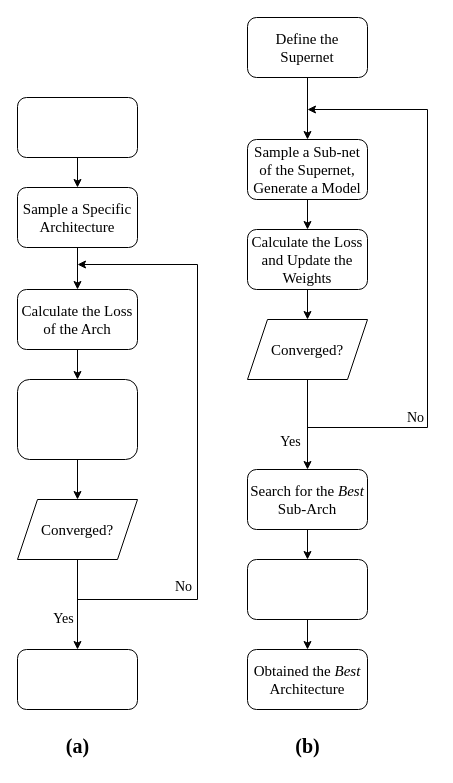
Image size: 453x783. Some labels were removed from this diagram. The box of each missing label's shape, as (x1, y1, x2, y2) in pixels:
Calculate the Gradient and Update the Arch&Weights: (16, 378, 138, 460)
Define the Encoding Rules: (16, 96, 138, 158)
Generate the Best Architecture: (16, 648, 138, 710)
Re-train the Architecture from Scratch (if needed): (246, 558, 368, 620)
